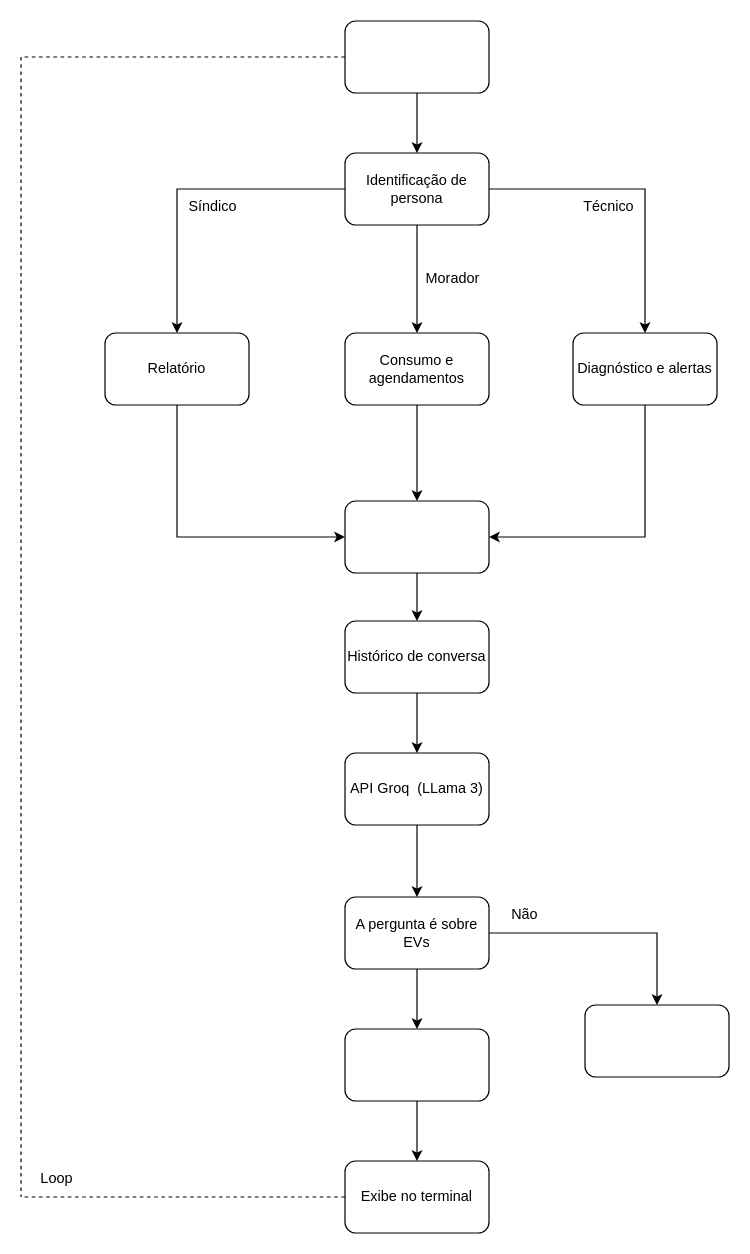
Image size: 750x1254. Some labels were removed from this diagram. Each missing label, with the centre of its shape:
Fora do escopo: the point at 656,1040
Injeção do system prompt: the point at 416,536
Resposta gerada: the point at 416,1064
Usúario envia pergunta para o chat: the point at 416,56
